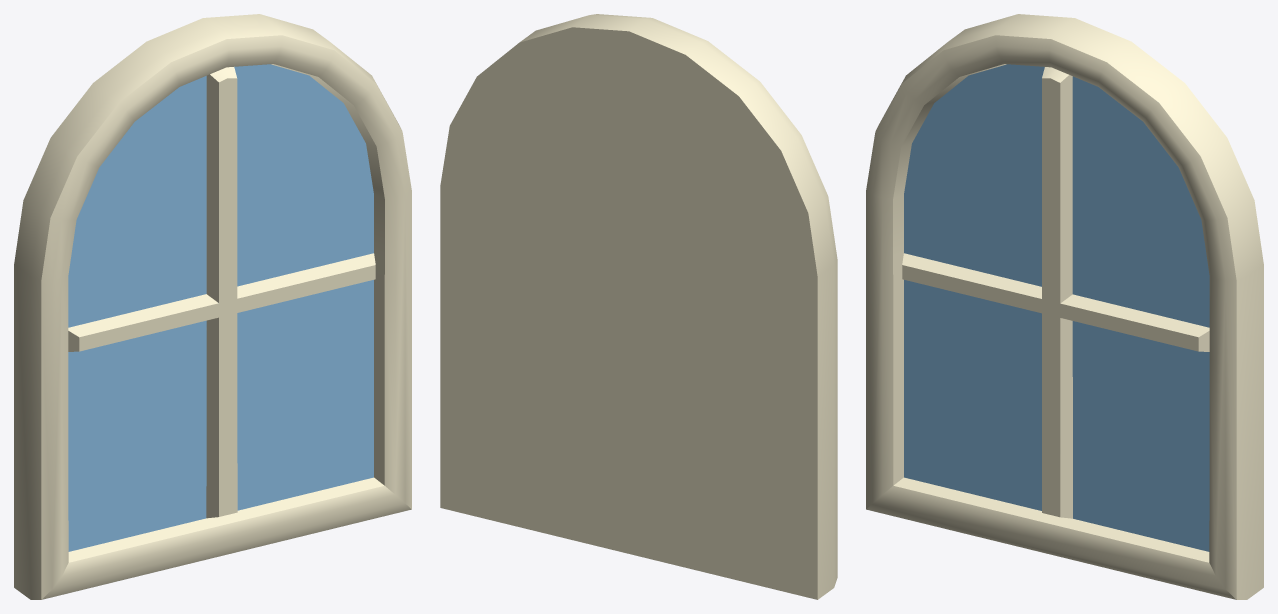
Rendered from window.fbx.
The picture shows the model from 3 angles, left to right: view 1: azimuth 30°, elevation 25°; view 2: azimuth 150°, elevation 25°; view 3: azimuth 330°, elevation 25°; orthographic projection.
Parts seen in each view (by area): view 1: Cube; view 2: Cube; view 3: Cube.
Part boxes in pixels (x1=…): Cube: x1=14, y1=14, x2=411, y2=599; Cube: x1=440, y1=14, x2=837, y2=599; Cube: x1=866, y1=14, x2=1263, y2=599.
Bounding box in the file's own units: 200 × 265 × 23.54.
1 material, 1 textured.
